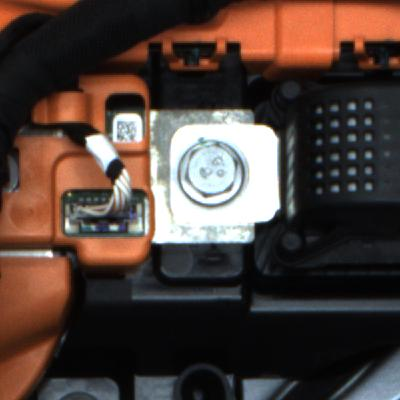nut_b: (172, 136, 248, 219)
